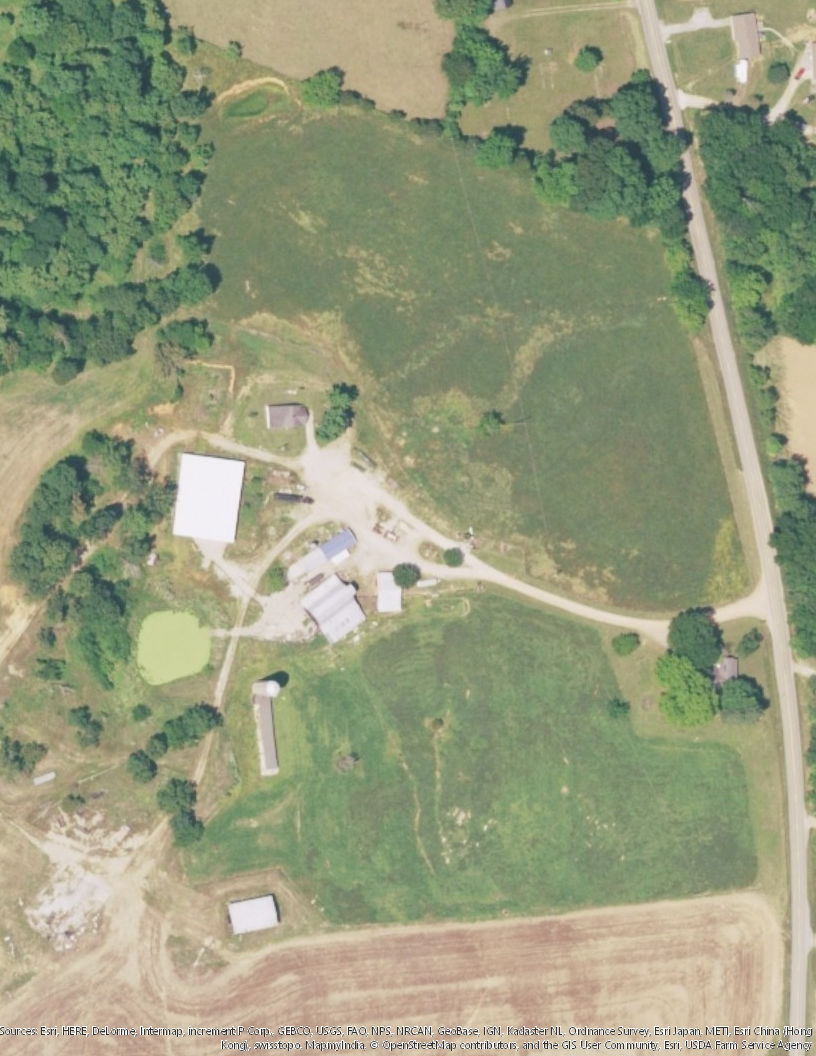cafo: (167, 449, 256, 545), (300, 569, 367, 644)
